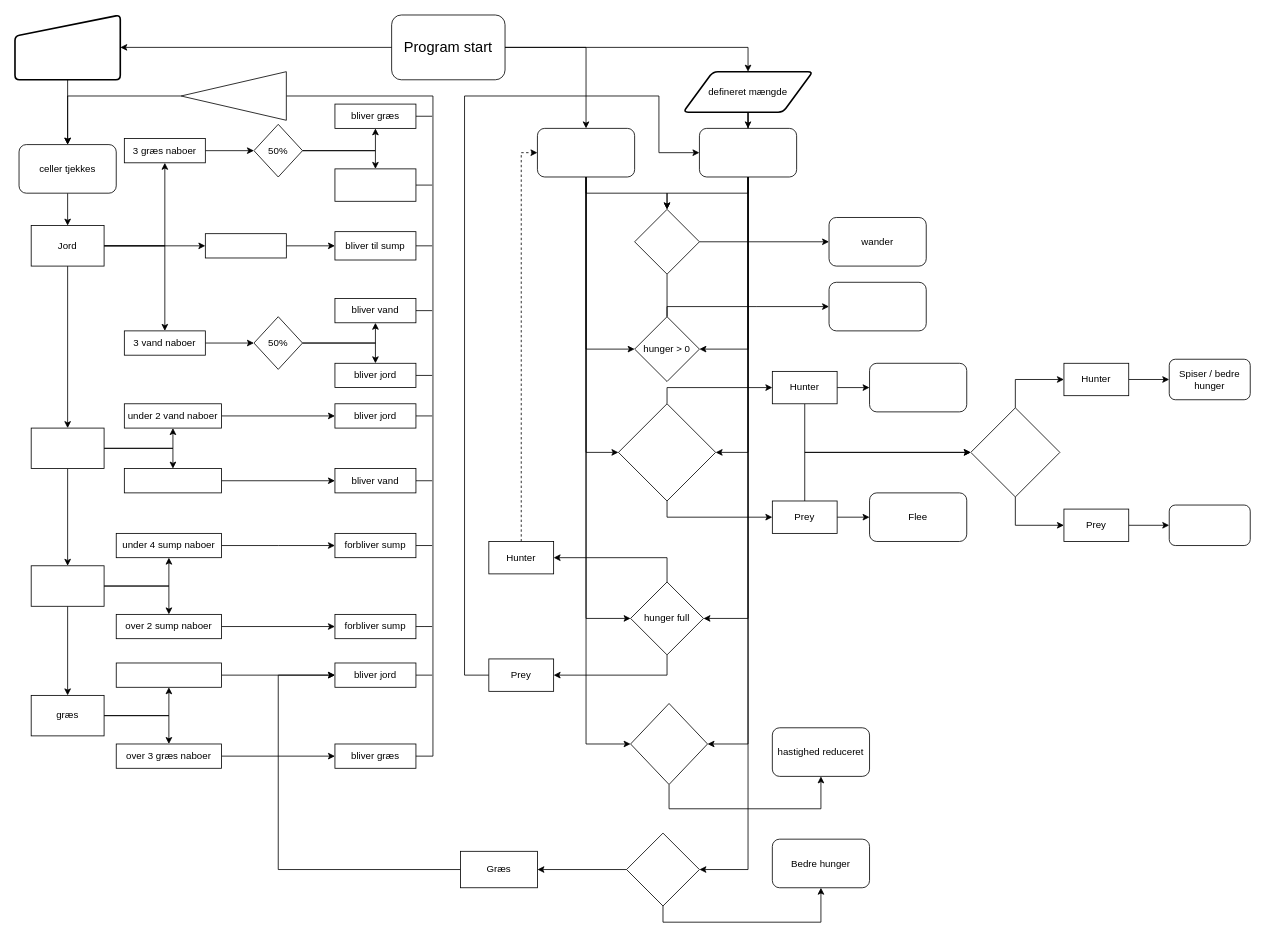
The diagram is 1264 pixels wide and 943 high, and some of its shapes have lost their labels. The shapes that lost their labels are listed below. From the top down, each one's centre as x and y in pixels, then its label:
At (x=67, y=47): "tilfældige celler genereres".
At (x=233, y=95): "vent på delay".
At (x=586, y=152): "Hunter spawnes".
At (x=748, y=152): "Prey spawnes".
At (x=375, y=184): "bliver groende græs".
At (x=245, y=245): "3 sump naboer".
At (x=666, y=241): "timer<500".
At (x=877, y=306): "minus hunger".
At (x=918, y=387): "Hunt/Seek".
At (x=67, y=448): "Vand".
At (x=667, y=452): "dist target < range".
At (x=1015, y=452): "indenfor death range".
At (x=173, y=480): "over 3 vand naboer".
At (x=1209, y=525): "død".
At (x=67, y=585): "sump".
At (x=168, y=674): "under 2 græs naboer".
At (x=669, y=743): "på vand/sump".
At (x=662, y=869): "på Græs".
